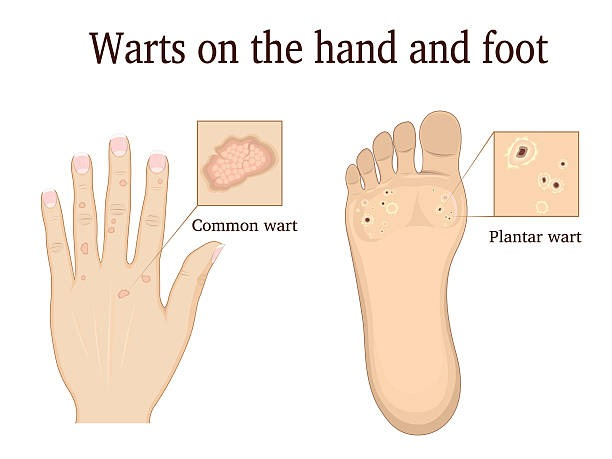Warts: (73, 173, 166, 316), (196, 117, 280, 207), (493, 132, 579, 218), (351, 182, 463, 240)
